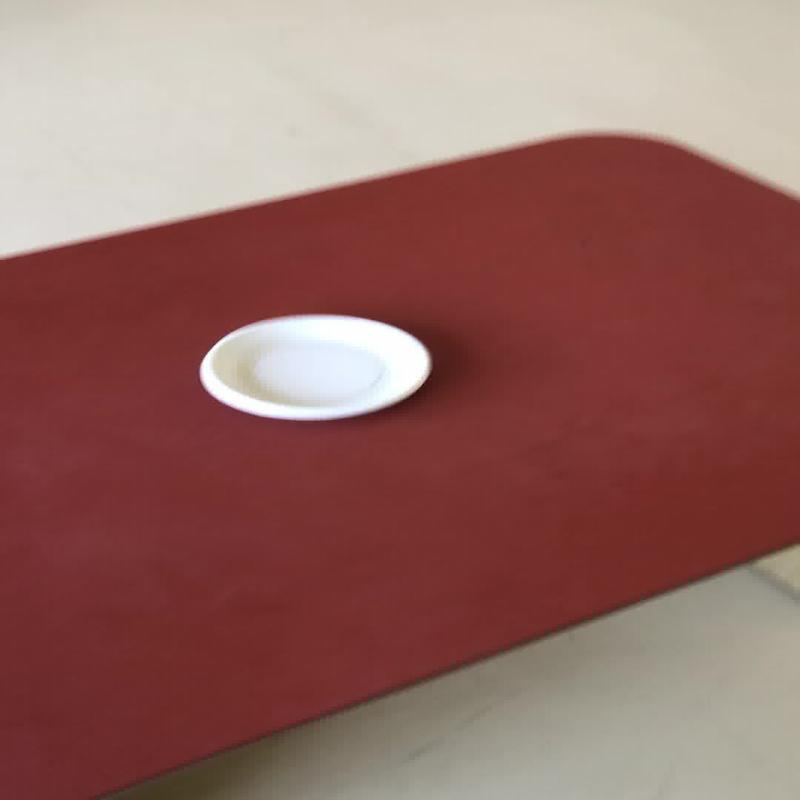plate: (196, 312, 432, 422)
